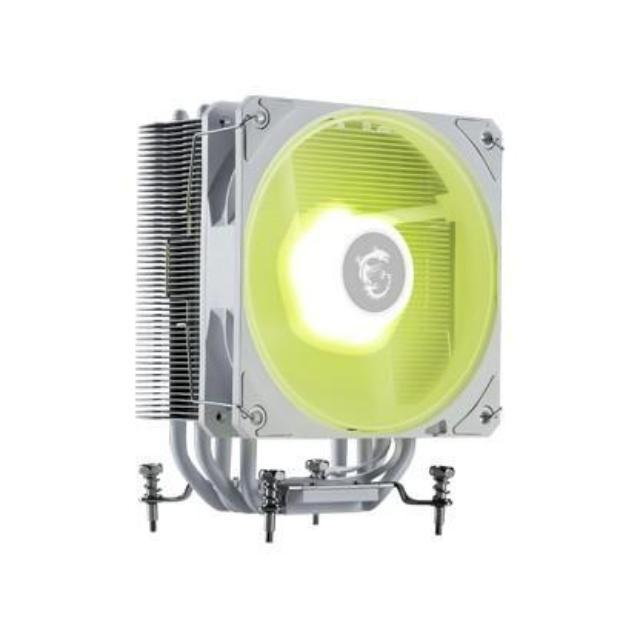CPU_Fan: (109, 91, 506, 548)
